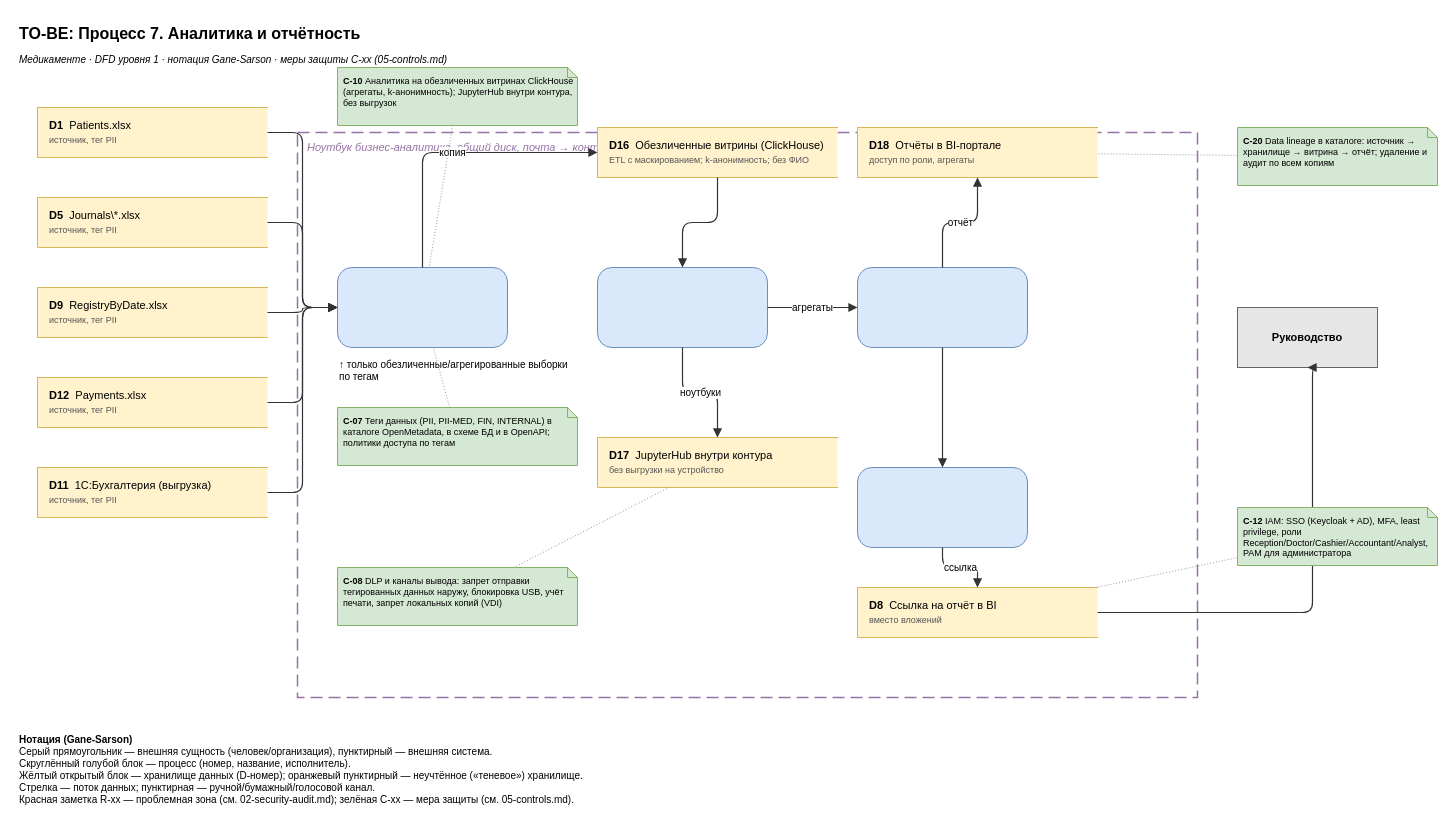
Some shapes in this 1455 by 834 pixel diagram are drawn without their labels. The box of each missing label's shape, as (x1, y1, x2, y2) in pixels:
7.1 Выгрузка данных из Excel и 1С бизнес-аналитик: (336, 266, 508, 348)
7.2 Обработка в Jupyter / Python бизнес-аналитик: (596, 266, 768, 348)
7.3 Отчёты: P&L, ABC-анализ бизнес-аналитик: (856, 266, 1028, 348)
7.4 Рассылка отчётов бизнес-аналитик: (856, 466, 1028, 548)
